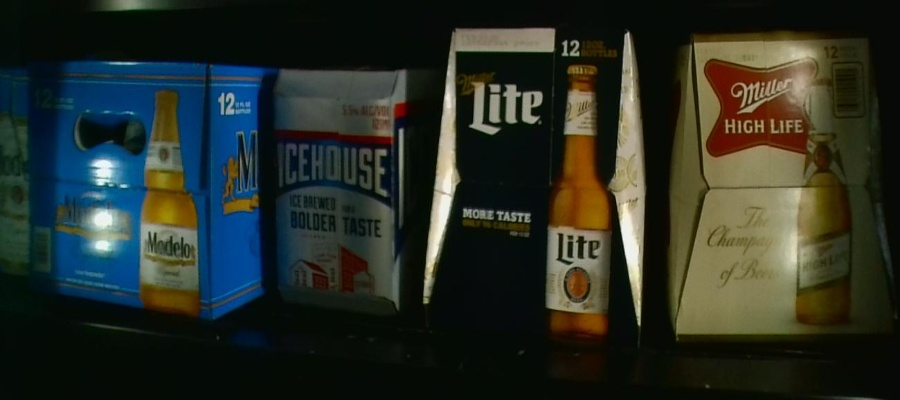bottle: (675, 28, 894, 350), (437, 23, 642, 347), (11, 61, 256, 315), (271, 72, 415, 317)
